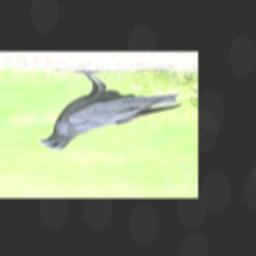Crow: (38, 70, 184, 151)
